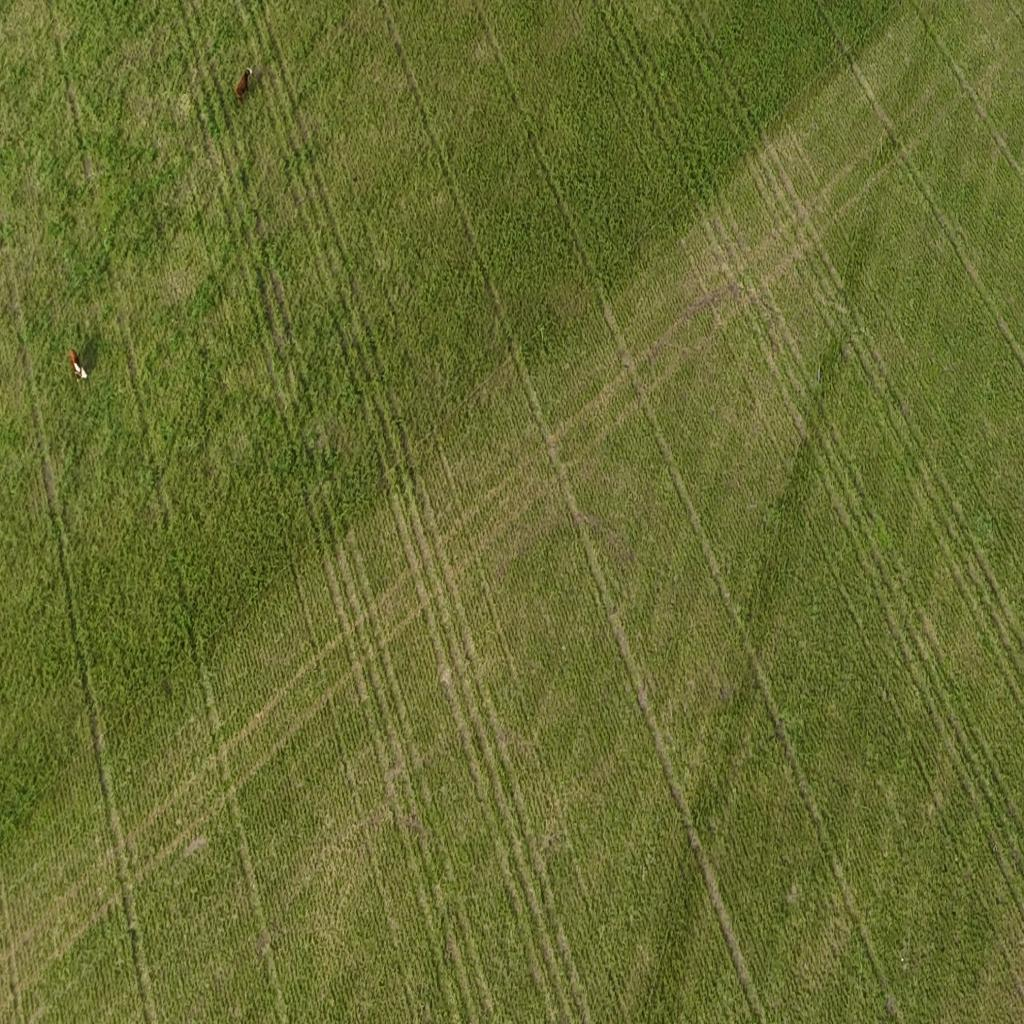cow: (66, 346, 90, 384), (235, 67, 253, 103)
